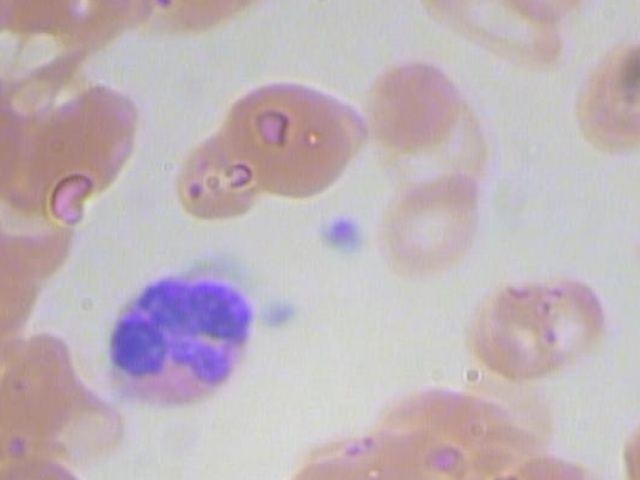Platelets: (250, 289, 305, 340), (314, 211, 368, 262)
RBC: (9, 77, 147, 229), (0, 314, 127, 466), (218, 73, 362, 200), (359, 42, 470, 161), (458, 268, 569, 386), (376, 166, 486, 284), (410, 0, 571, 74), (553, 36, 640, 159), (172, 122, 269, 222), (537, 262, 617, 368), (270, 448, 409, 480), (0, 448, 109, 480), (498, 453, 618, 480), (618, 389, 640, 480)
WBC: (98, 257, 252, 423)
